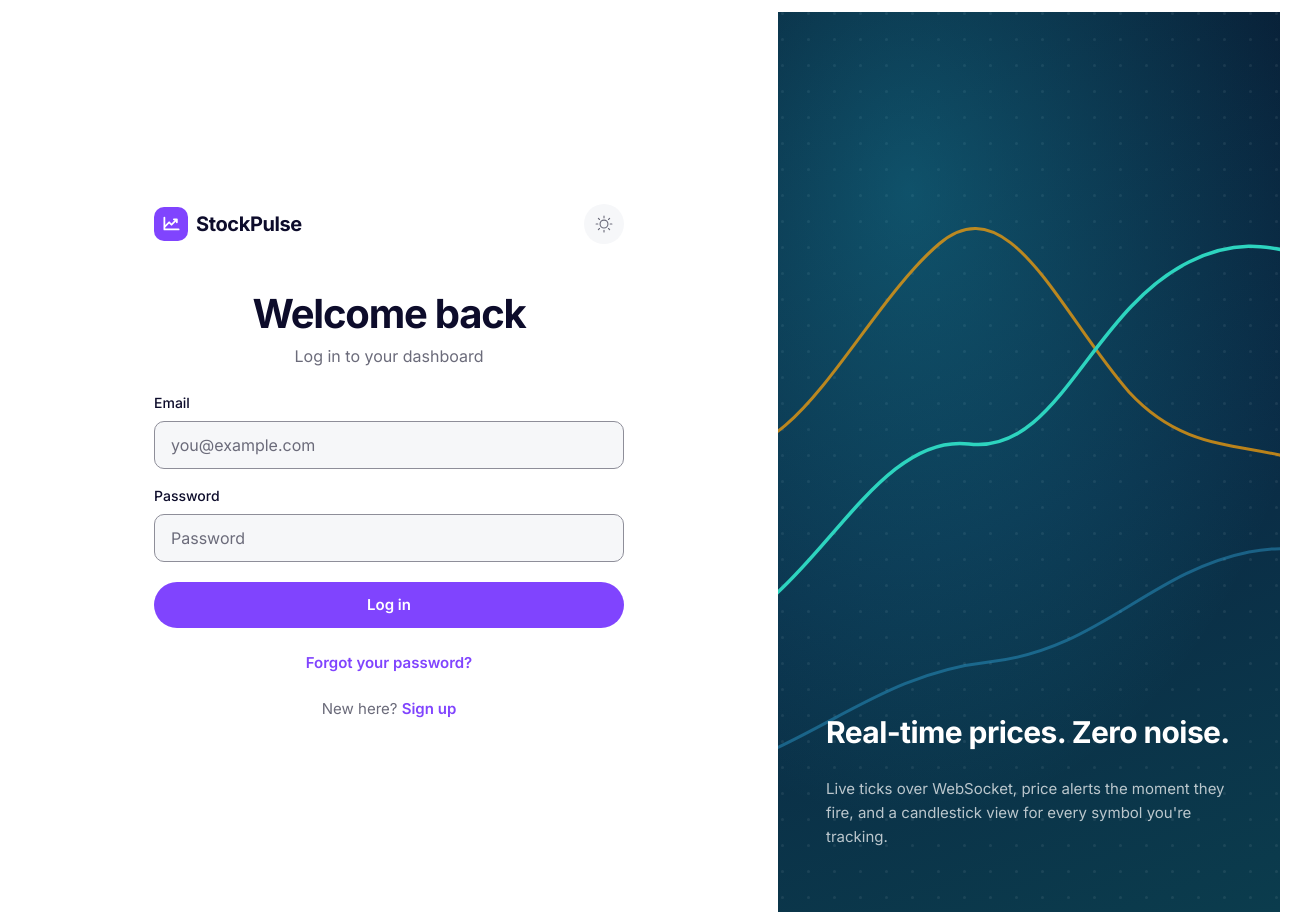
Scenario: AuthGate › switches to the signup form and back
Click the button "Sign up" at (429, 708), box x1=402 y1=699 x2=456 y2=718
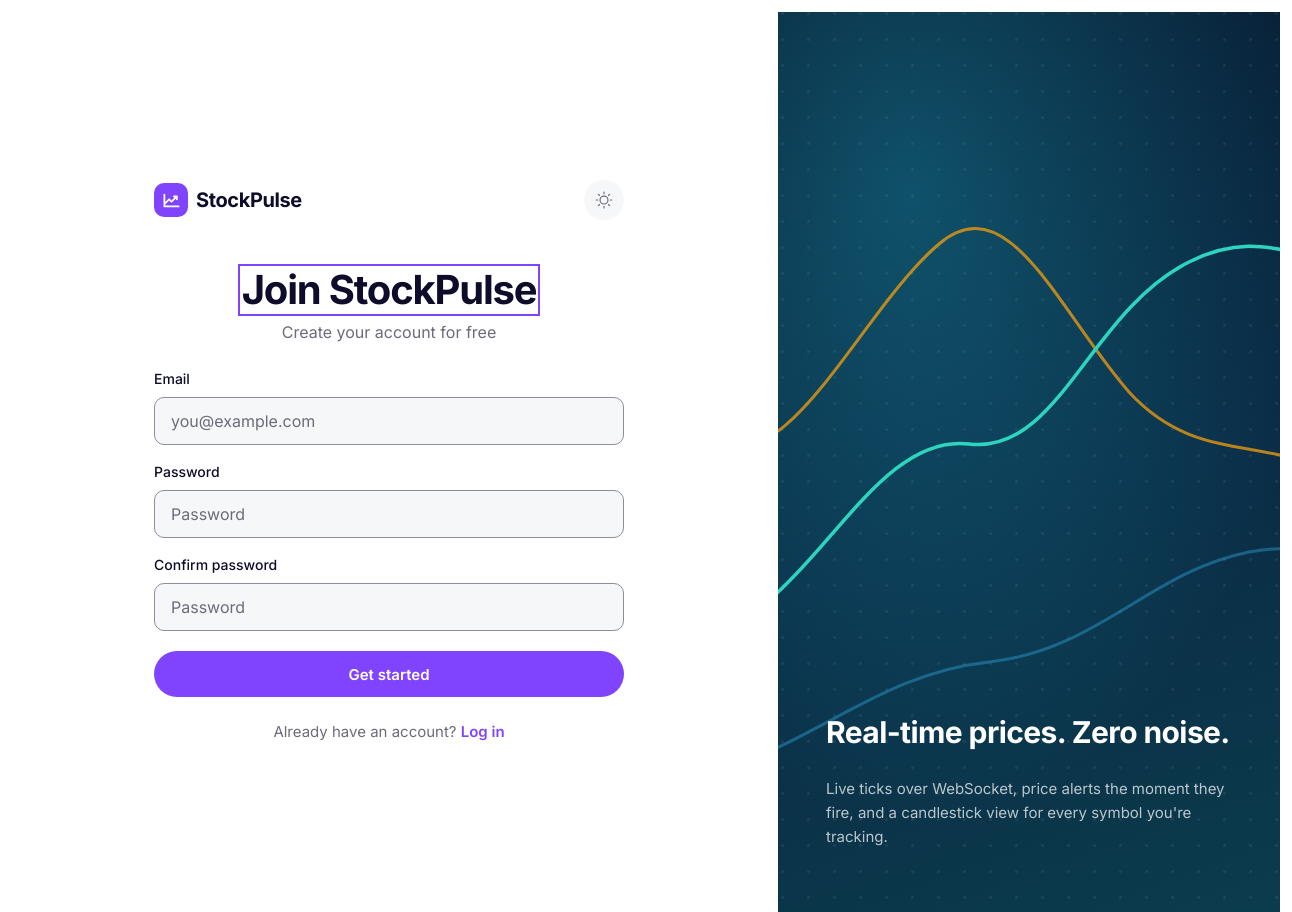
Expected: the form named "Sign up" is shown, x1=154 y1=368 x2=624 y2=697
Click the button "Log in" at (483, 732), box x1=461 y1=722 x2=505 y2=741
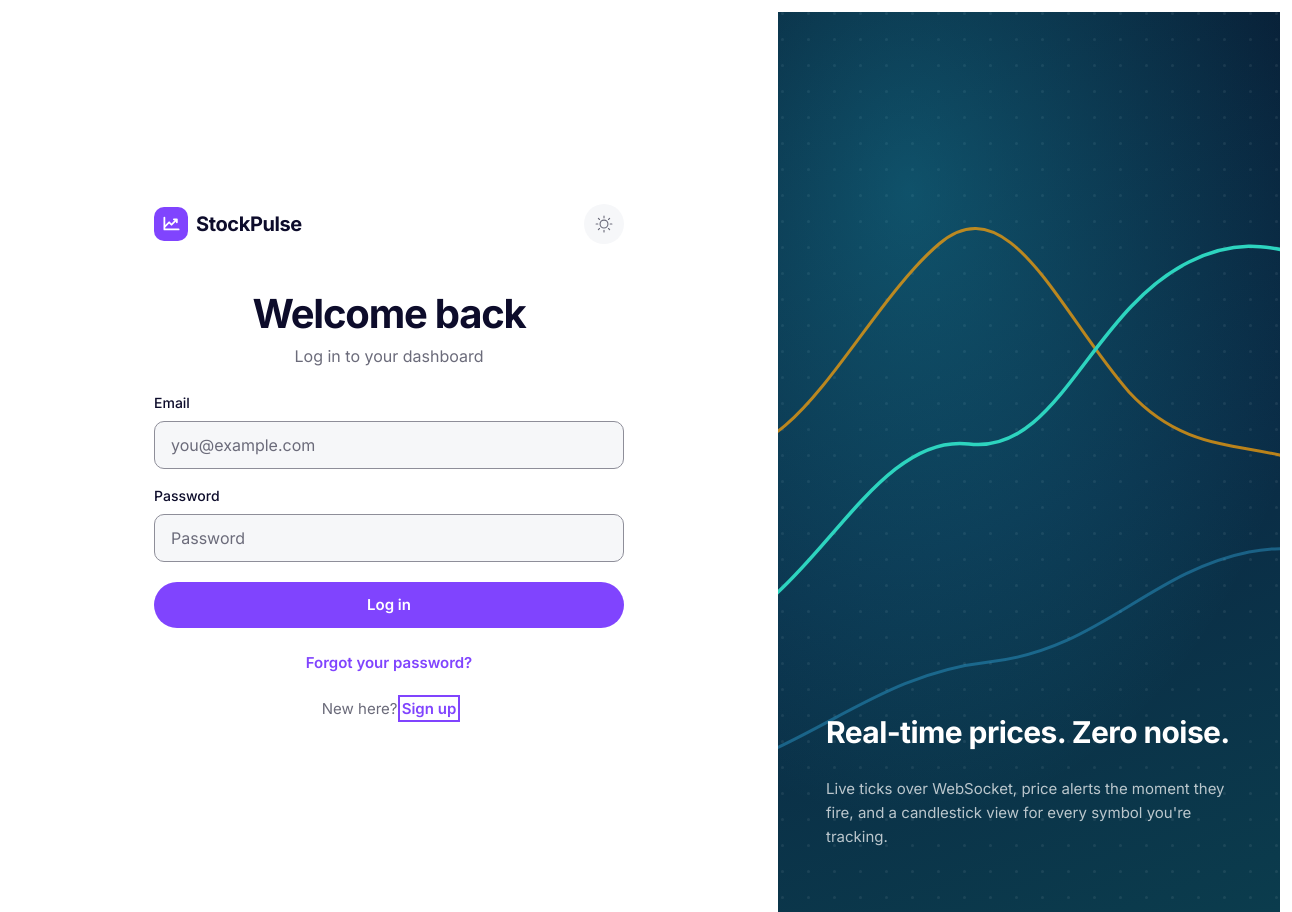
Expected: the form "Log in" is shown, x1=154 y1=392 x2=624 y2=628
